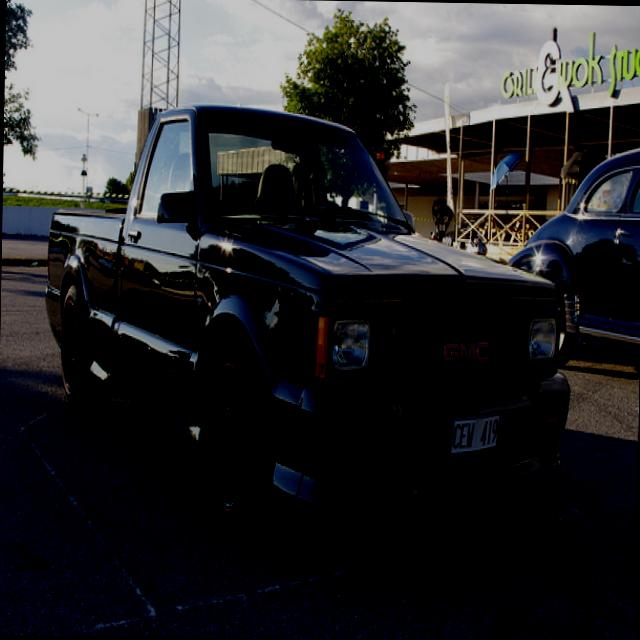Vehicle: (37, 101, 578, 544), (506, 144, 640, 349)
